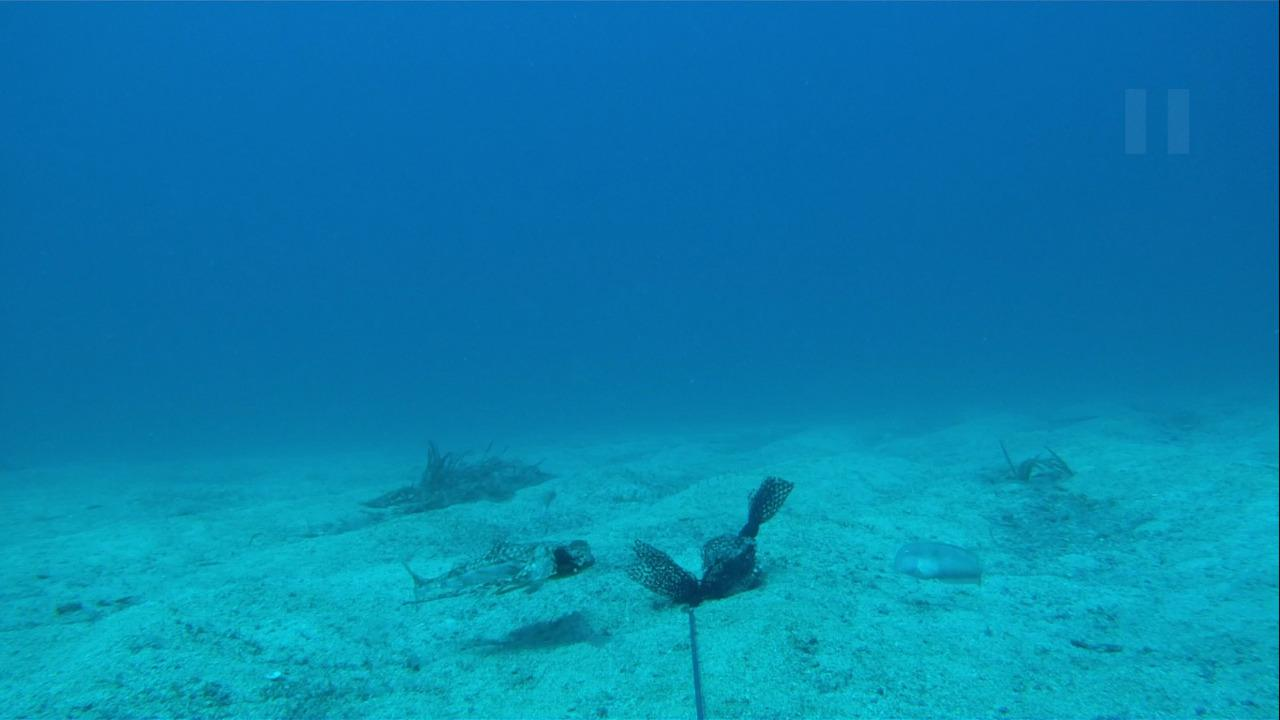dactylopterus: (379, 536, 591, 612)
raor: (882, 536, 986, 582)
